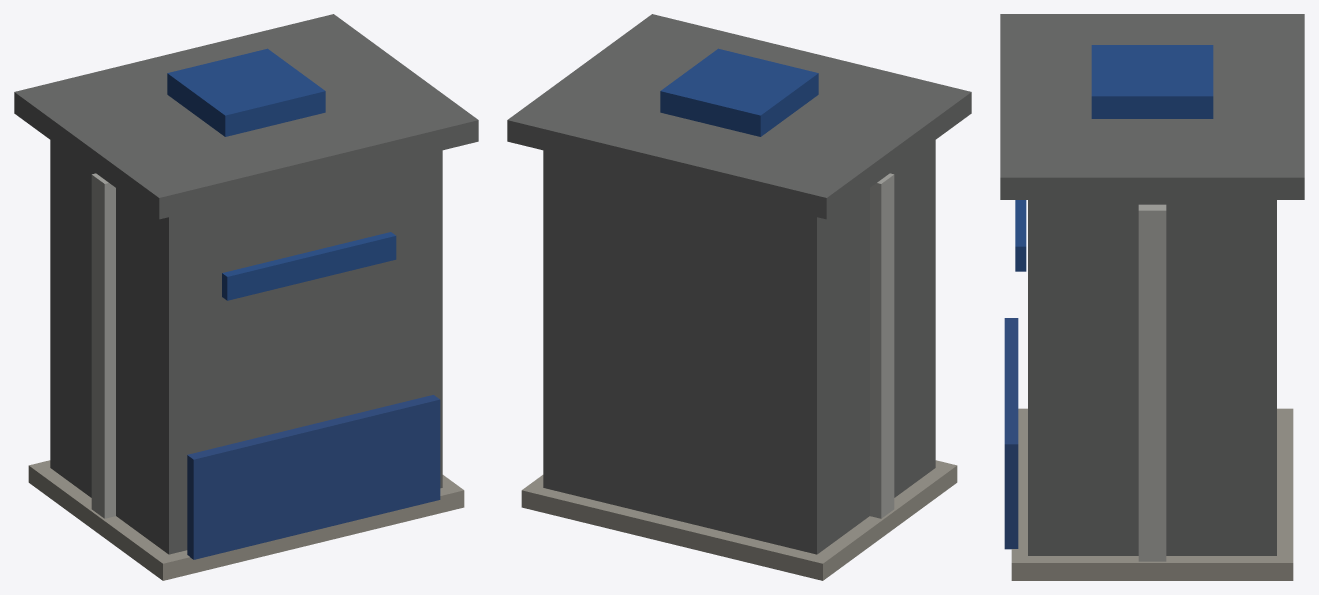
File: bld_commercial_a09_lod2.glb
3 renders of one model, left to right at view 1: azimuth 30°, elevation 25°; view 2: azimuth 150°, elevation 25°; view 3: azimuth 270°, elevation 25°, orthographic. The views are drawn at different scales.
Visible parts, largest first — view 1: body; view 2: body; view 3: body.
Boxes of the visible parts, x1,y1,x2,y2 form: body: (14, 14, 478, 580); body: (507, 14, 971, 580); body: (1000, 14, 1304, 580).
Size of the model in its own units: 7 by 8.65 by 5.5.
